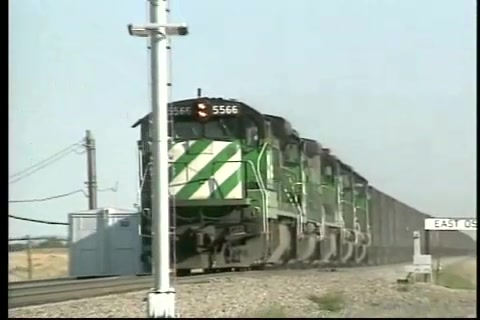train: (133, 90, 478, 274)
